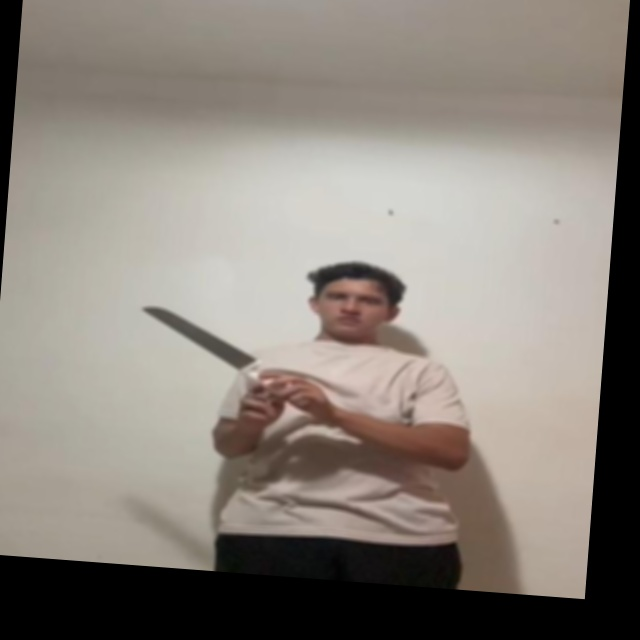Sharp-Object: (135, 304, 265, 364)
